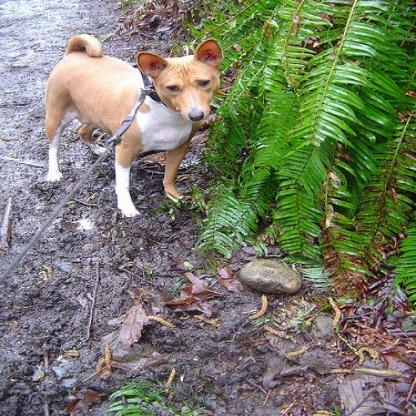basenji: (41, 31, 223, 218)
